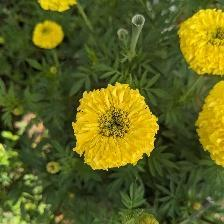marigold: (74, 84, 159, 177)
